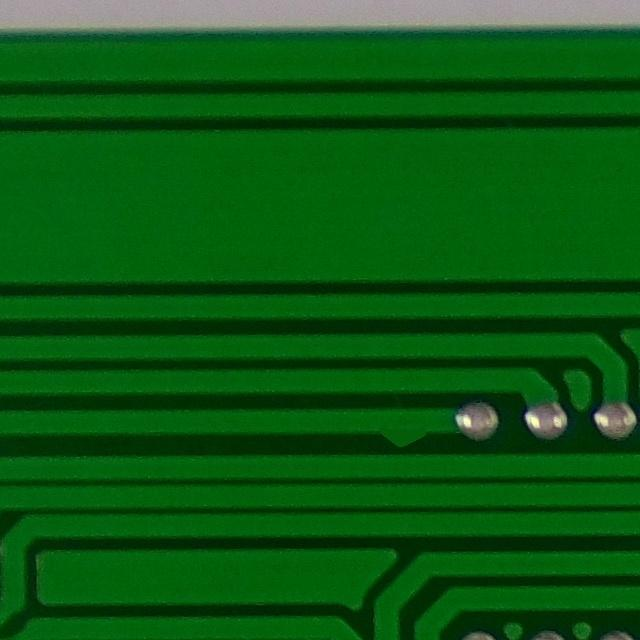spur: (352, 402, 455, 456)
